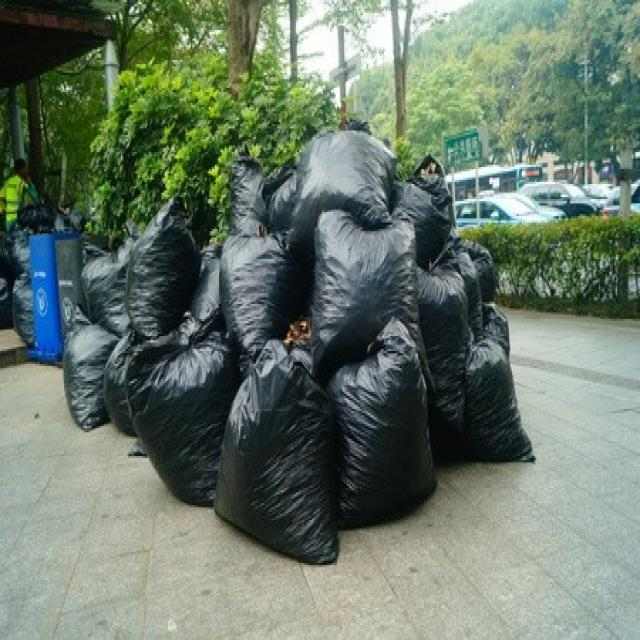plastic_bag: (217, 336, 335, 533), (337, 332, 434, 518), (311, 202, 426, 337), (136, 329, 230, 476), (438, 337, 511, 459), (121, 204, 202, 307), (300, 121, 387, 213), (64, 305, 115, 429), (223, 230, 288, 318), (397, 157, 451, 232)
